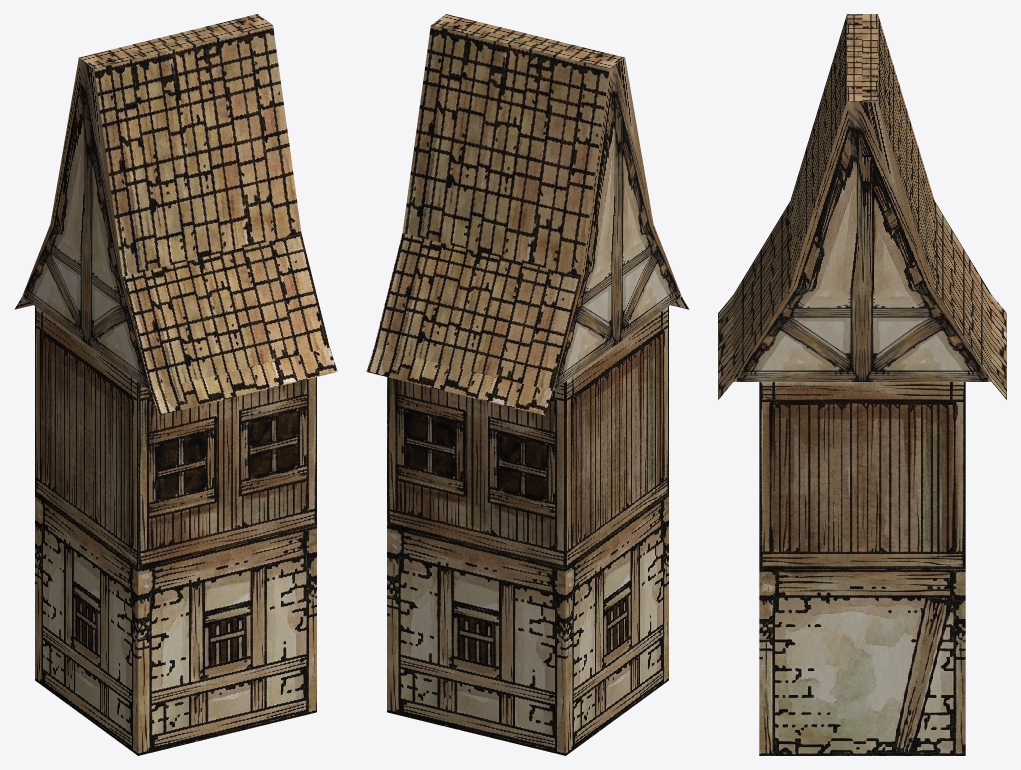
The model's file is house.glb.
3 renders of one model, left to right at view 1: azimuth 30°, elevation 25°; view 2: azimuth 150°, elevation 25°; view 3: azimuth 270°, elevation 25°, orthographic.
Visible parts, largest first — view 1: house-2x2x8; view 2: house-2x2x8; view 3: house-2x2x8.
Part boxes in pixels (x1,y1,x2,y2): house-2x2x8: [14, 14, 337, 755]; house-2x2x8: [366, 14, 689, 755]; house-2x2x8: [718, 14, 1006, 755].
Size of the model in its own units: 2 by 7 by 2.8.
Materials: 1 (1 with a texture image).
